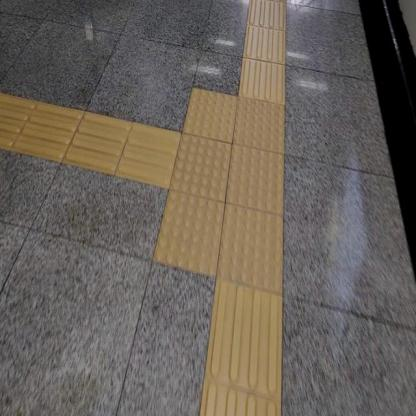podotacti: (138, 60, 314, 312), (0, 90, 169, 190), (196, 296, 285, 415), (238, 0, 301, 94)
